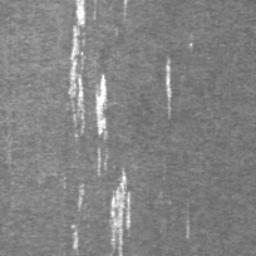White rust: (68, 0, 88, 138), (110, 168, 130, 256), (96, 73, 108, 141), (165, 55, 172, 120), (97, 146, 109, 176), (78, 182, 85, 214), (71, 223, 78, 249), (91, 0, 98, 23), (186, 213, 190, 239), (124, 0, 129, 20)
